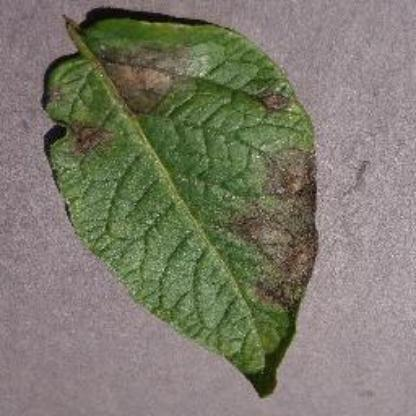Late-Blight: (33, 8, 327, 408)
